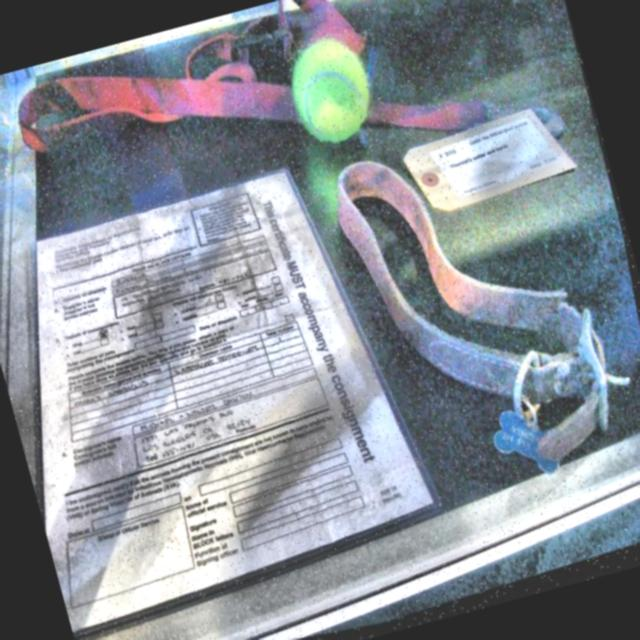tennis-ball: (274, 24, 392, 166)
